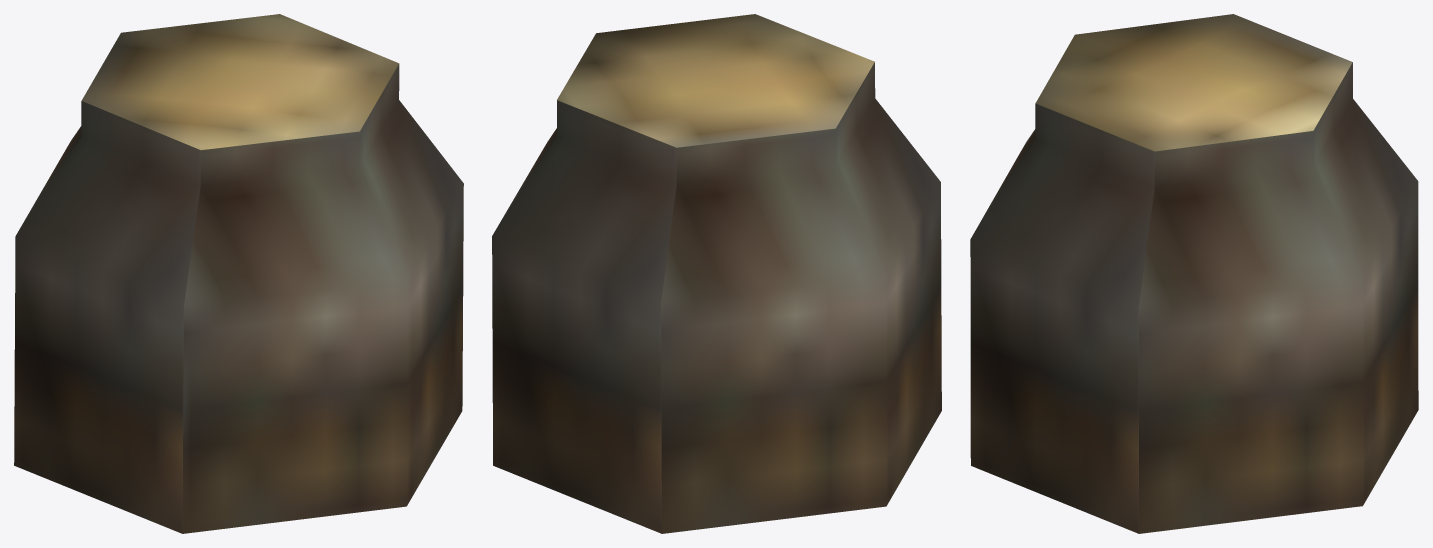
File: d_sd_wujian05_qt.FBX
The picture shows the model from 3 angles, left to right: view 1: azimuth 30°, elevation 25°; view 2: azimuth 150°, elevation 25°; view 3: azimuth 270°, elevation 25°; orthographic projection.
Visible parts, largest first — view 1: d_sd_wujian05_qt_01A; view 2: d_sd_wujian05_qt_01A; view 3: d_sd_wujian05_qt_01A.
Part boxes in pixels (x1,y1,x2,y2): d_sd_wujian05_qt_01A: (14, 14, 463, 533); d_sd_wujian05_qt_01A: (492, 14, 941, 533); d_sd_wujian05_qt_01A: (970, 14, 1418, 533).
Bounding box in the file's own units: 19.86 × 17.21 × 19.55.
